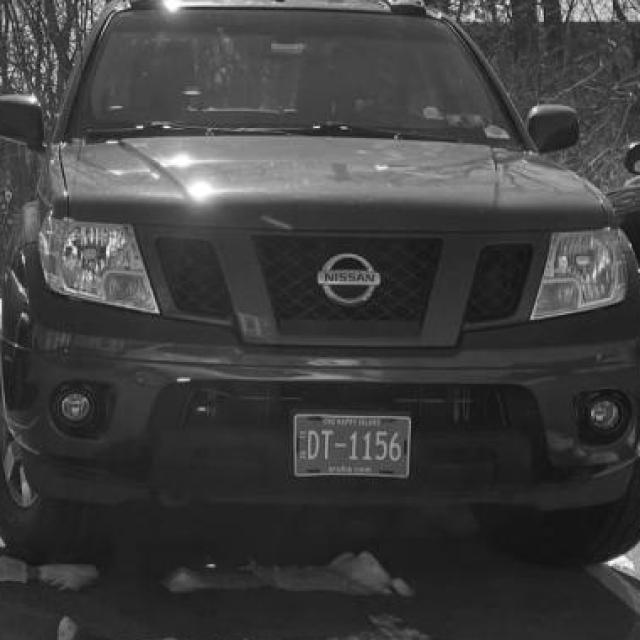licenseplate: (293, 413, 411, 478)
